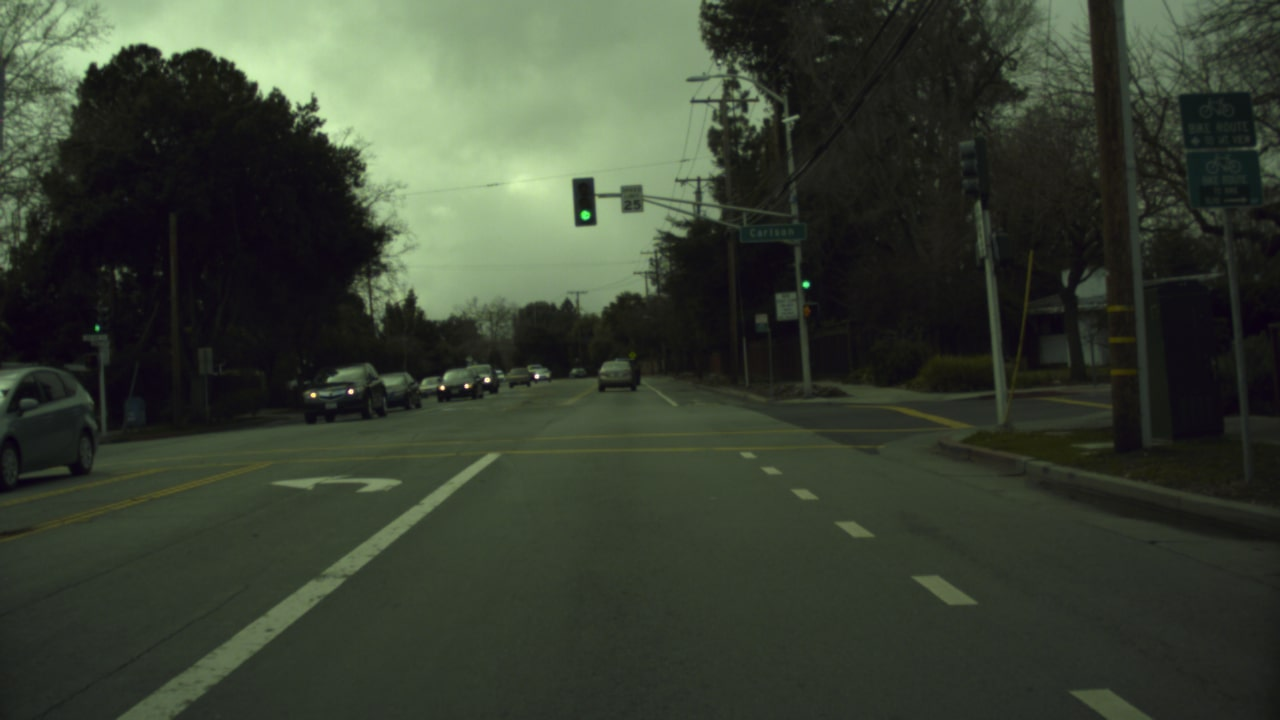signal: (570, 175, 595, 223), (88, 319, 105, 338), (798, 272, 813, 291)
